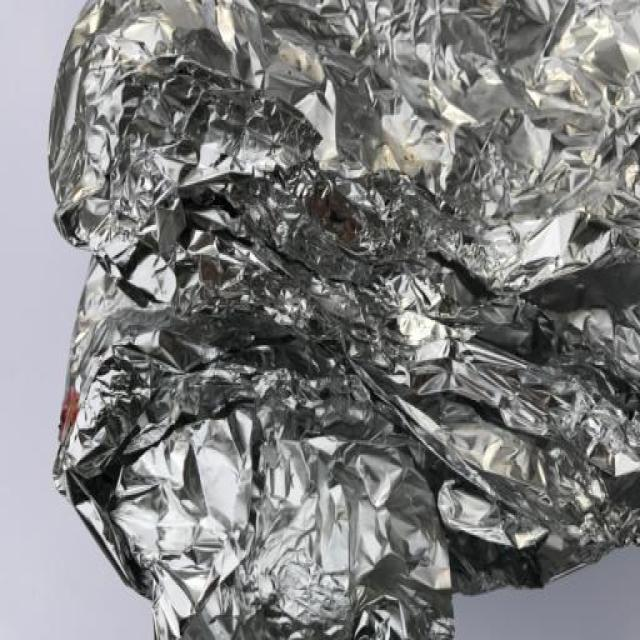metal: (46, 0, 638, 638)
